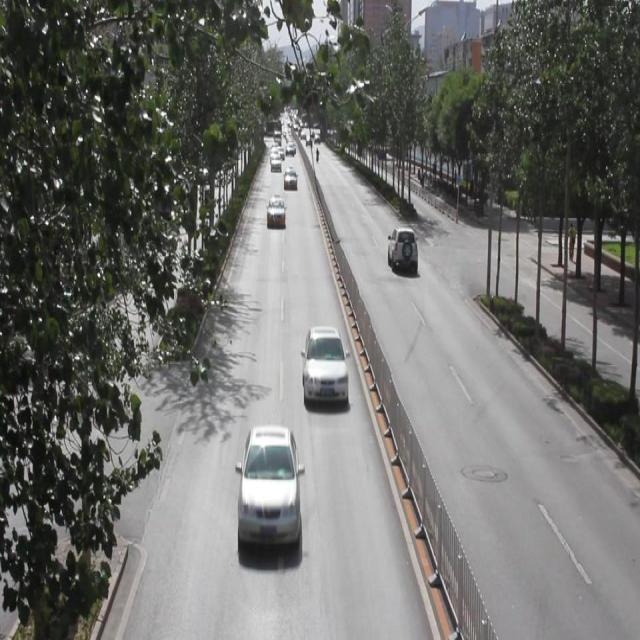car: (237, 423, 299, 550), (302, 327, 348, 404), (387, 226, 418, 275), (266, 194, 286, 229), (282, 168, 297, 191)
